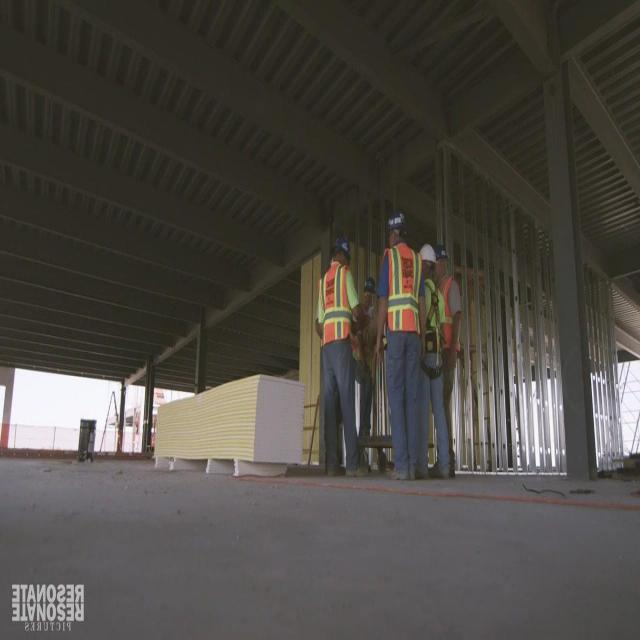Reflective-Jacket: (310, 258, 364, 354), (377, 240, 425, 347), (427, 273, 465, 366), (416, 273, 447, 370)
Safety-Helmet: (328, 228, 356, 266), (383, 204, 411, 240), (418, 237, 440, 271), (431, 238, 453, 270), (362, 272, 378, 300)
